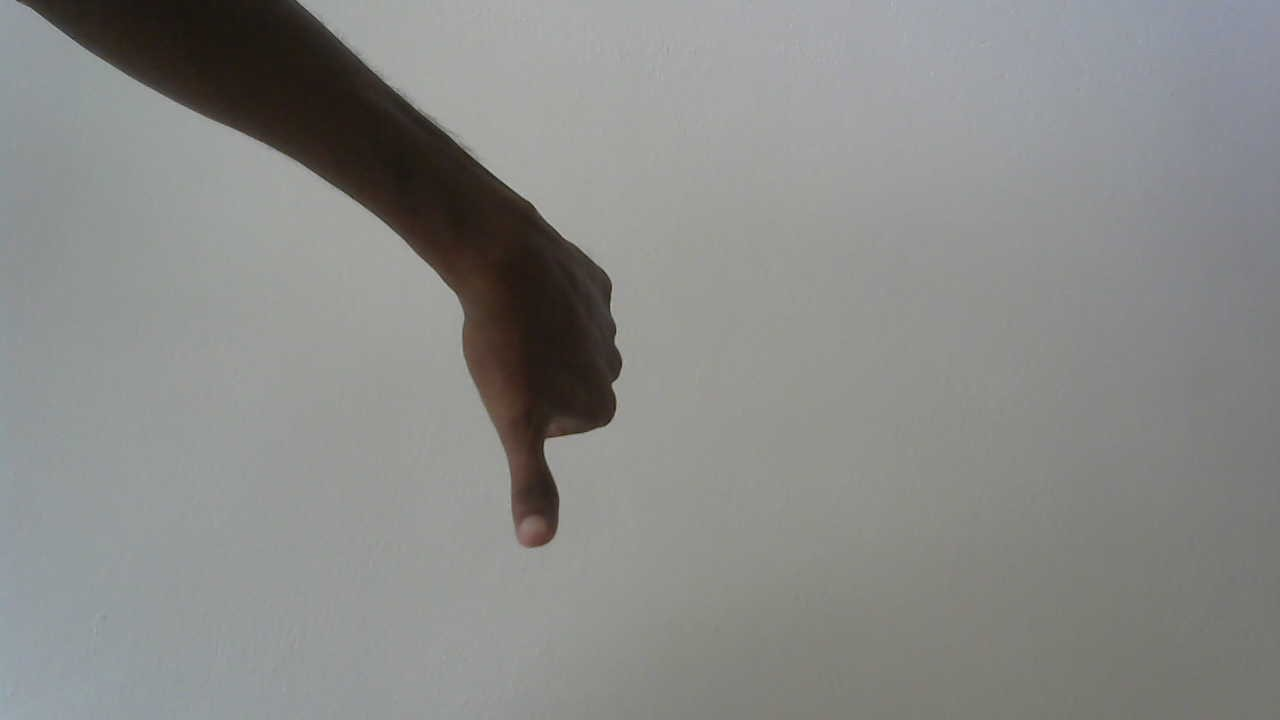thumbsdown: (443, 135, 653, 570)
